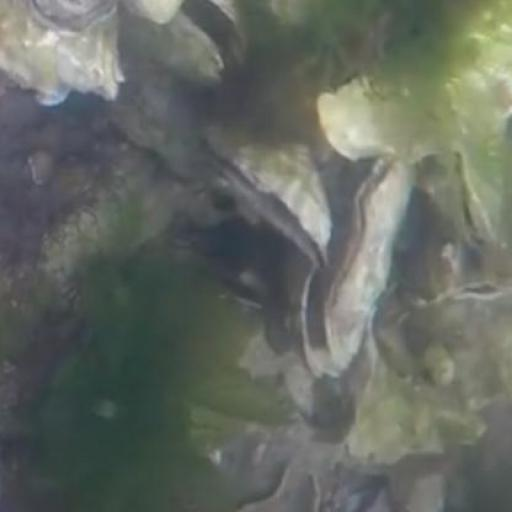Oyster-Closed: (1, 1, 132, 106), (322, 68, 450, 161), (397, 282, 512, 345)
Oyster-Open: (323, 159, 416, 376), (193, 142, 334, 278), (120, 1, 258, 101)
